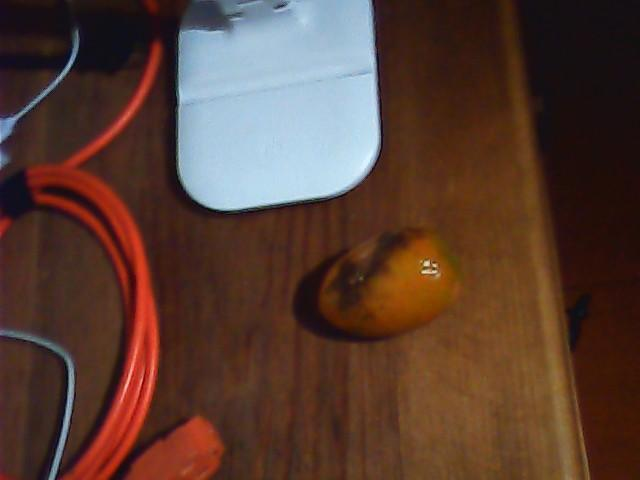defectuoso: (314, 229, 460, 337)
